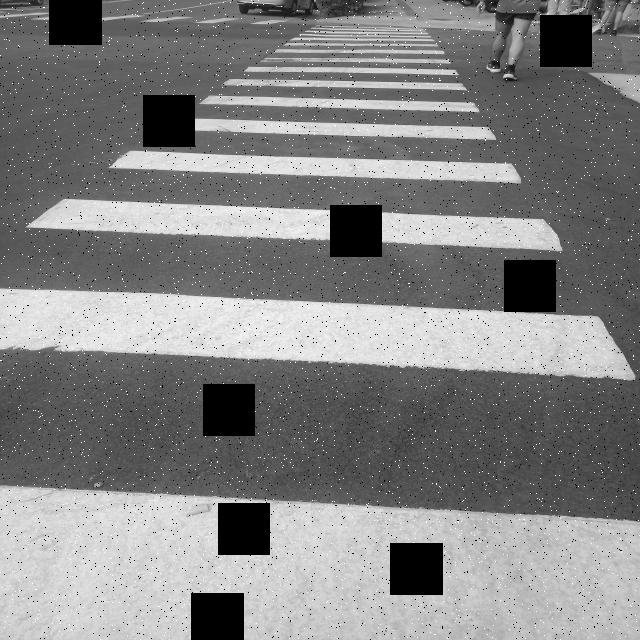person: (487, 0, 542, 80), (477, 1, 485, 15)
zebra crossing: (0, 26, 640, 637), (5, 12, 285, 26)
